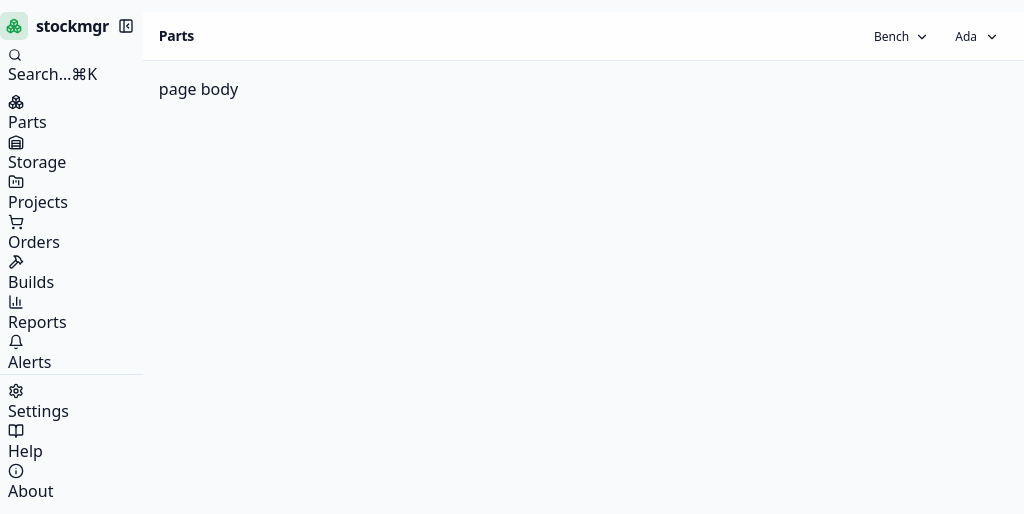
Test case: app sidebar collapse › expanding again restores the full sidebar
Click the button named "Collapse sidebar" at (126,26), box [109,13,143,39]
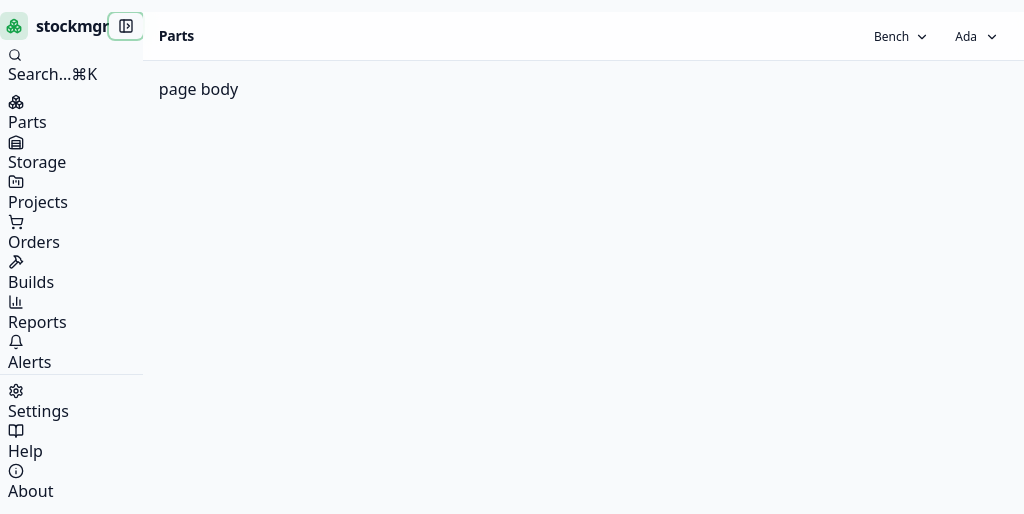
Click the button named "Expand sidebar" at (126,26), box [109,13,143,39]
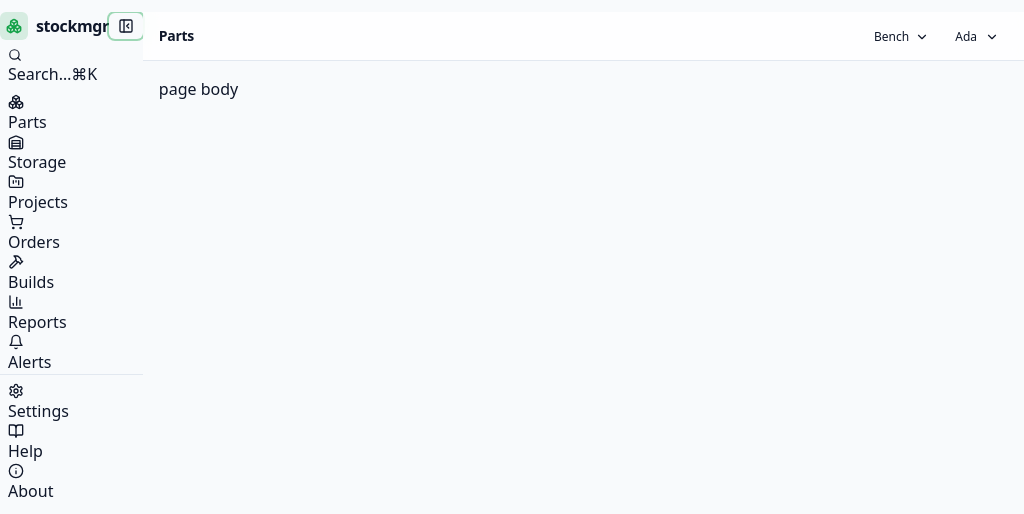
Result: the button named "Collapse sidebar" is expanded at [109,13,143,39]
